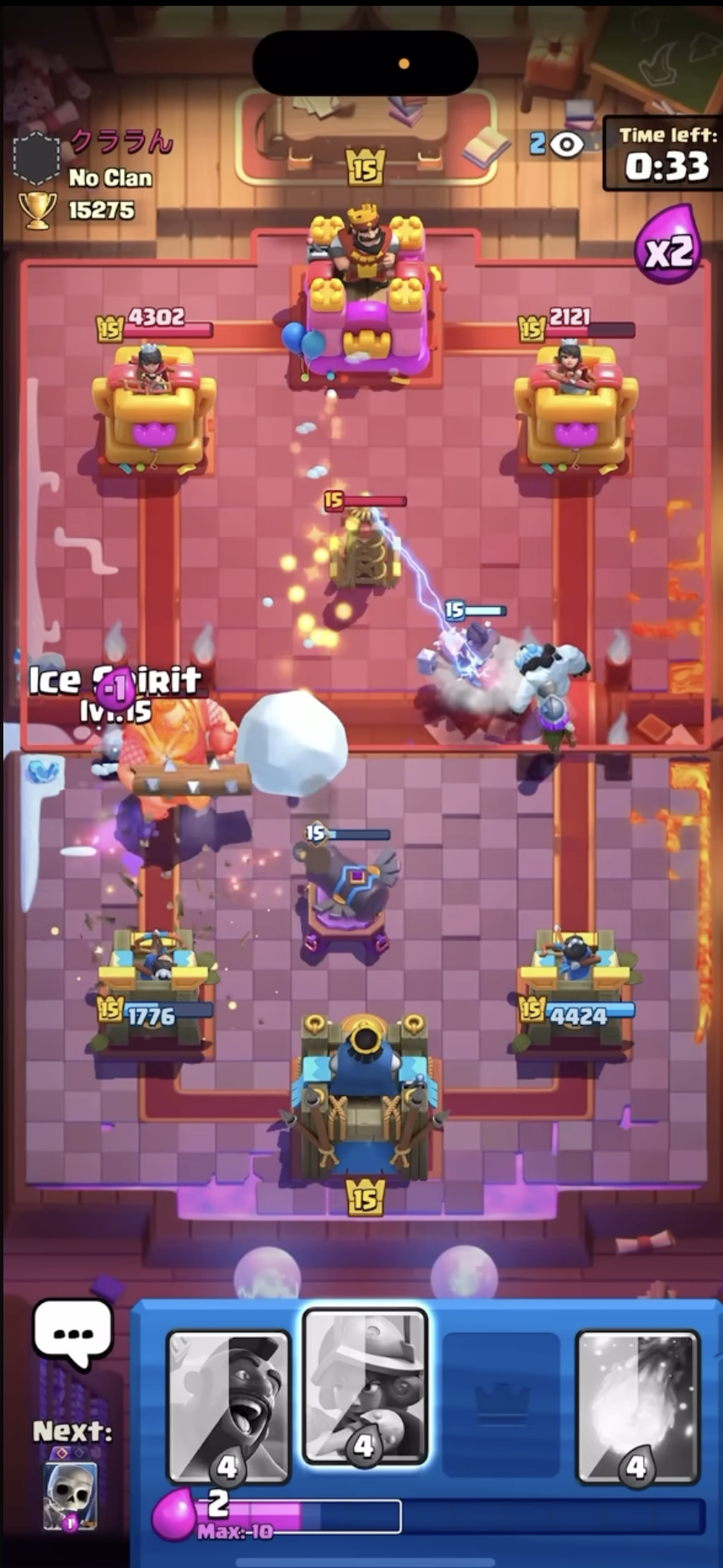cannon: (299, 822, 407, 965)
hog-rider: (423, 592, 526, 714)
ice-golem: (510, 624, 604, 716)
log: (132, 750, 261, 809)
musketeer: (526, 680, 589, 760)
